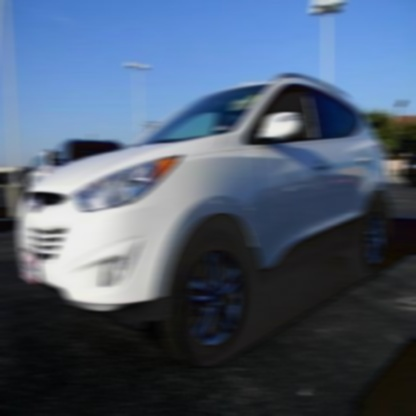Vehicle: (20, 68, 391, 368)
